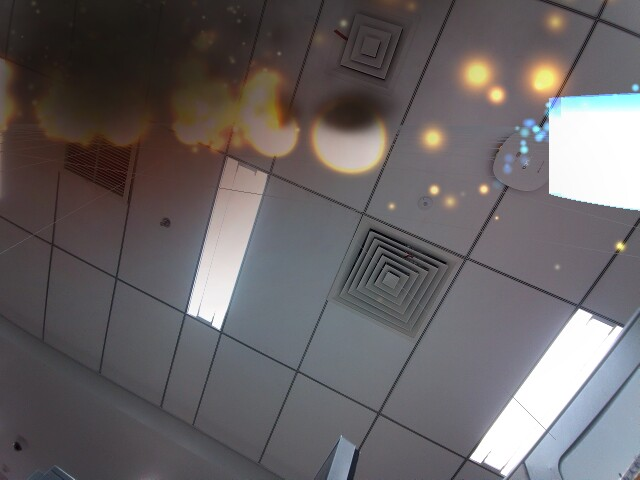fire: (308, 96, 388, 179), (86, 92, 155, 149), (35, 91, 101, 147), (247, 106, 299, 157)
